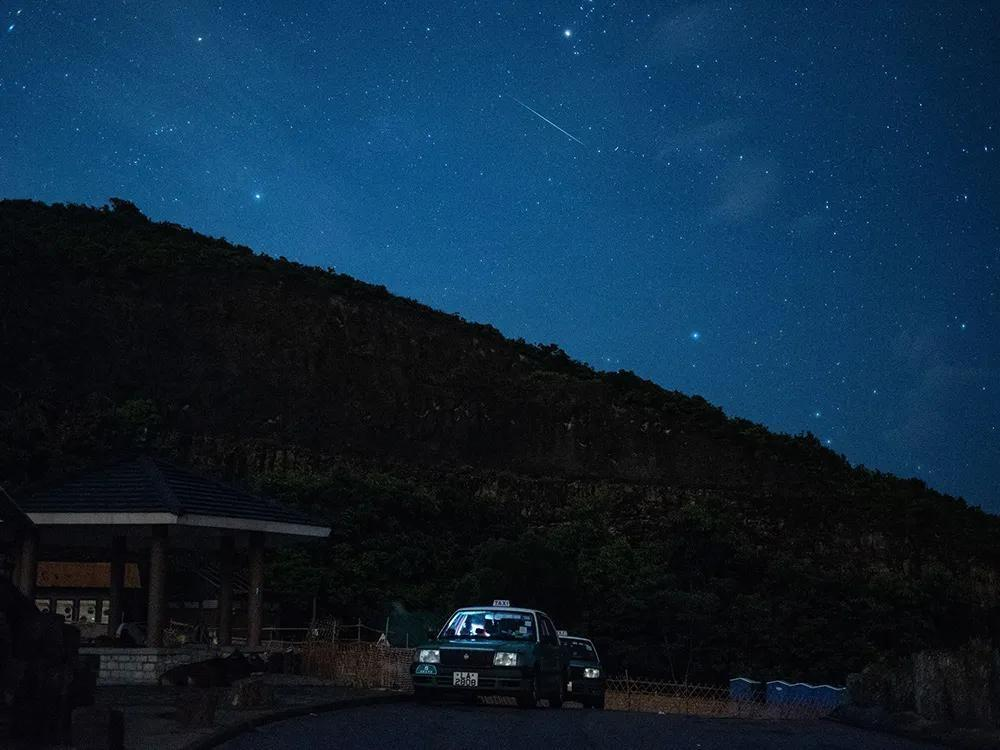meteorite: (486, 88, 610, 153)
